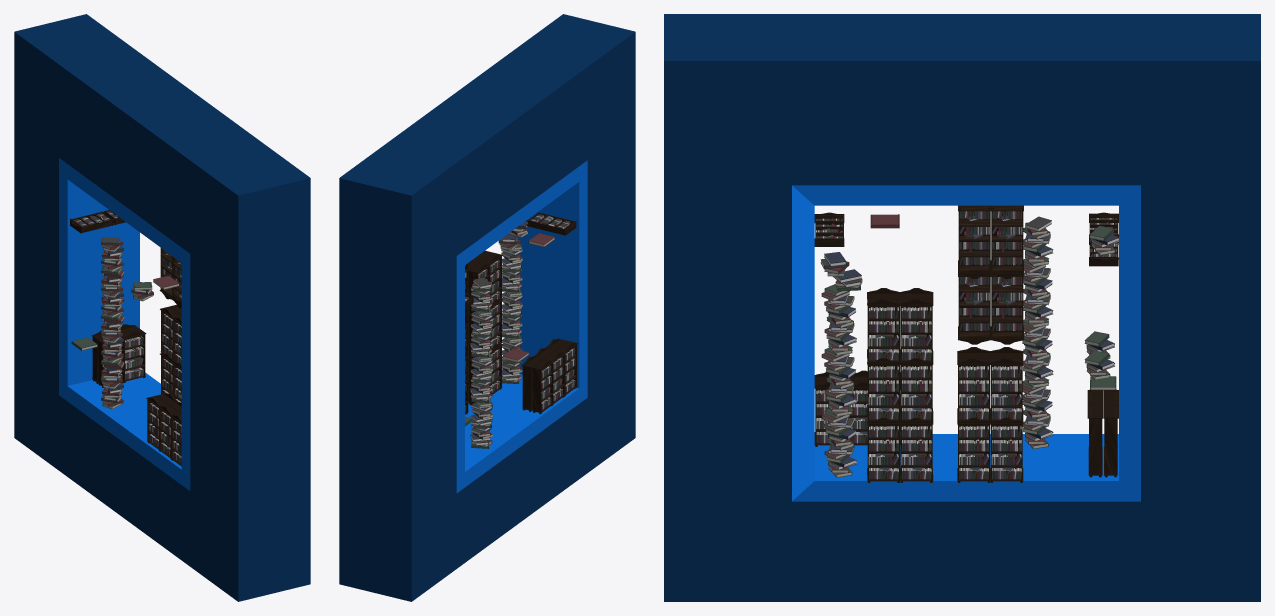
File: FaceB2.glb
The picture shows the model from 3 angles, left to right: view 1: azimuth 30°, elevation 25°; view 2: azimuth 150°, elevation 25°; view 3: azimuth 270°, elevation 25°; orthographic projection. The views are drawn at different scales.
Parts seen in each view (by area): view 1: paredeTRUETRUE-col.002, planoTrue-col, estante-col.003, PilhaDeLivros-col.006, estante-col.002, estante-col.001, PilhaDeLivros-col.008, estante-col.005, livros.002-col; view 2: paredeTRUETRUE-col.002, planoTrue-col, estante-col.003, estante-col.004, PilhaDeLivros-col.006, PilhaDeLivros-col.008, PilhaDeLivros-col.004, PilhaDeLivros-col.005, PilhaDeLivros-col.002, livros.001-col; view 3: paredeTRUETRUE-col.002, planoTrue-col, estante-col.004, estante-col.005, estante-col.002, PilhaDeLivros-col.006, PilhaDeLivros-col.008, estante-col.001, estante-col.003, PilhaDeLivros-col.005, PilhaDeLivros-col.004, PilhaDeLivros-col.002 (+1 smaller).
Boxes of the visible parts, bbox=[...] form: paredeTRUETRUE-col.002: bbox=[14, 14, 310, 601]; planoTrue-col: bbox=[59, 158, 190, 490]; estante-col.003: bbox=[146, 393, 181, 466]; PilhaDeLivros-col.006: bbox=[101, 313, 124, 409]; estante-col.002: bbox=[160, 304, 181, 402]; estante-col.001: bbox=[91, 324, 146, 387]; PilhaDeLivros-col.008: bbox=[101, 237, 124, 318]; estante-col.005: bbox=[159, 248, 181, 308]; livros.002-col: bbox=[70, 211, 113, 233]; paredeTRUETRUE-col.002: bbox=[339, 14, 635, 601]; planoTrue-col: bbox=[456, 160, 587, 492]; estante-col.003: bbox=[521, 338, 578, 414]; estante-col.004: bbox=[465, 250, 503, 405]; PilhaDeLivros-col.006: bbox=[470, 354, 492, 448]; PilhaDeLivros-col.008: bbox=[470, 277, 492, 357]; PilhaDeLivros-col.004: bbox=[502, 290, 522, 338]; PilhaDeLivros-col.005: bbox=[501, 243, 522, 292]; PilhaDeLivros-col.002: bbox=[502, 335, 522, 383]; livros.001-col: bbox=[526, 212, 576, 235]; paredeTRUETRUE-col.002: bbox=[664, 14, 1260, 601]; planoTrue-col: bbox=[792, 185, 1140, 501]; estante-col.004: bbox=[867, 288, 933, 482]; estante-col.005: bbox=[958, 205, 1023, 344]; estante-col.002: bbox=[957, 347, 1023, 482]; PilhaDeLivros-col.006: bbox=[1022, 317, 1053, 449]; PilhaDeLivros-col.008: bbox=[1023, 216, 1053, 327]; estante-col.001: bbox=[1087, 389, 1118, 477]; estante-col.003: bbox=[814, 370, 900, 446]; PilhaDeLivros-col.005: bbox=[821, 284, 856, 355]; PilhaDeLivros-col.004: bbox=[821, 345, 856, 416]; PilhaDeLivros-col.002: bbox=[821, 406, 856, 477].
Size of the model in its own units: 102 by 509 by 509.
471 materials, 468 textured.
